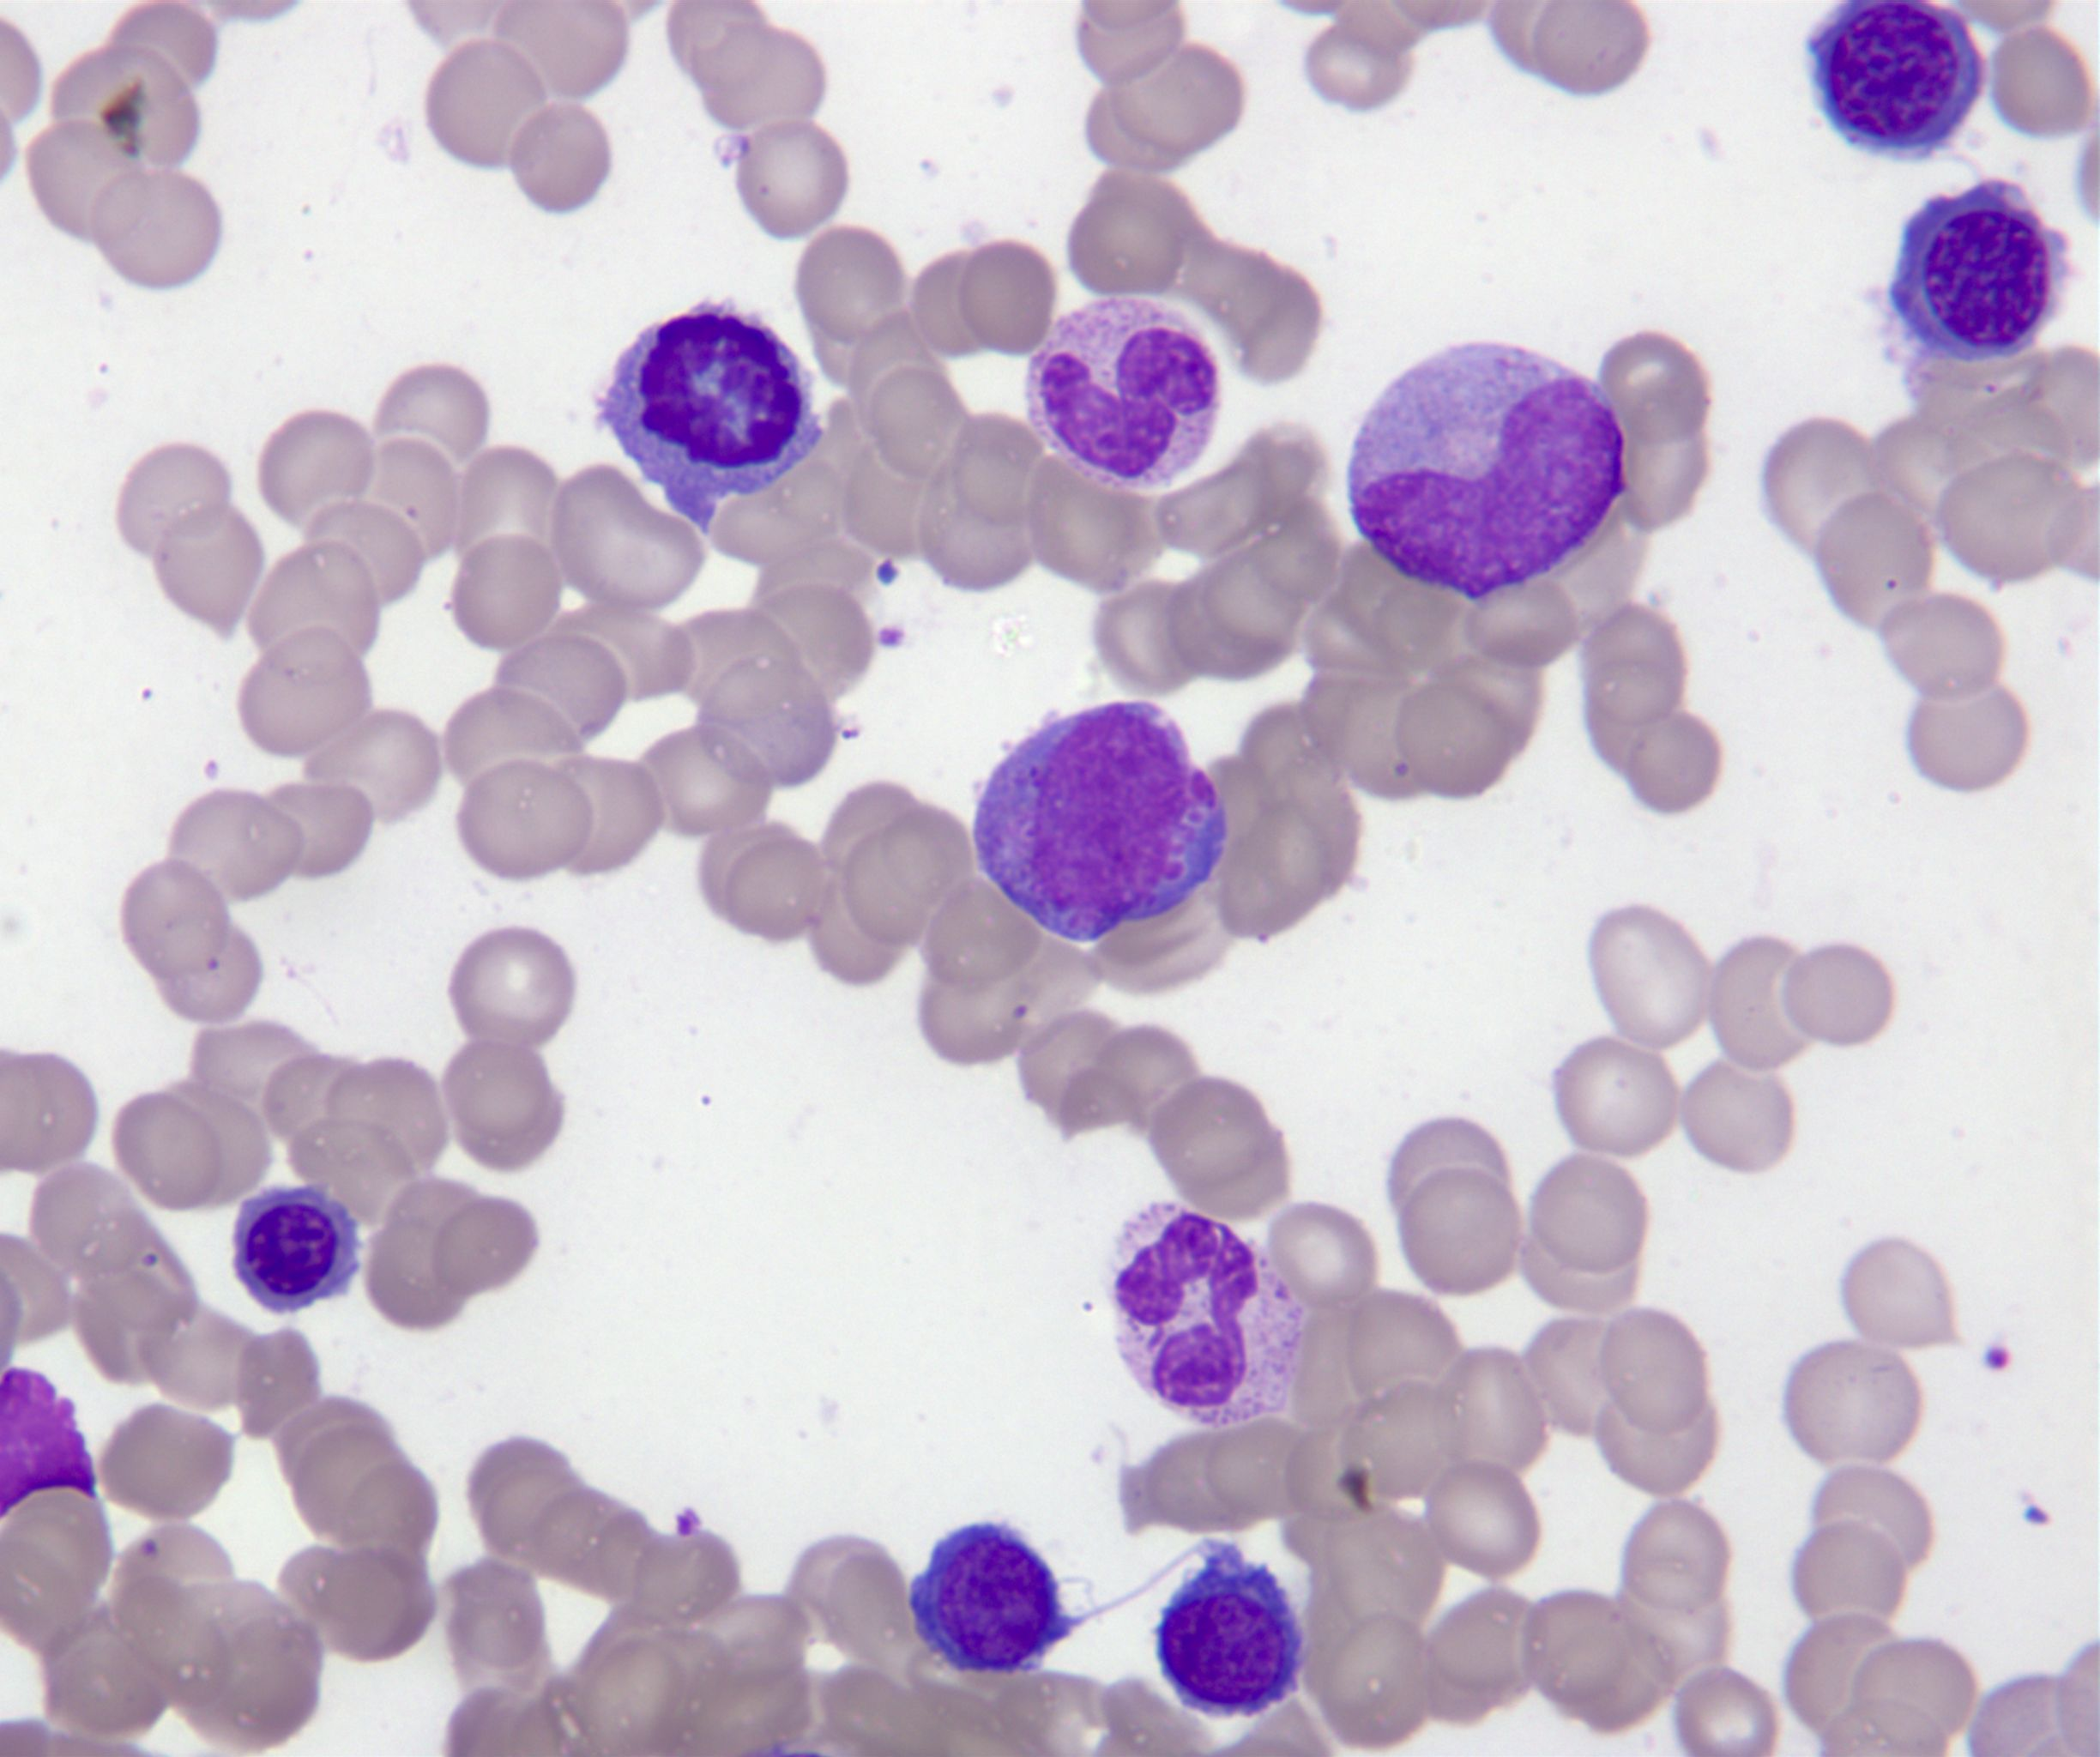2: (968, 694, 1233, 947)
23: (1885, 174, 2069, 368), (1798, 0, 1985, 164), (1149, 1537, 1306, 1724), (902, 1514, 1071, 1677), (223, 1183, 365, 1323)
4: (1340, 332, 1638, 614)
5: (1015, 291, 1224, 502)
6: (1104, 1200, 1312, 1438)
x: (590, 291, 830, 541)
